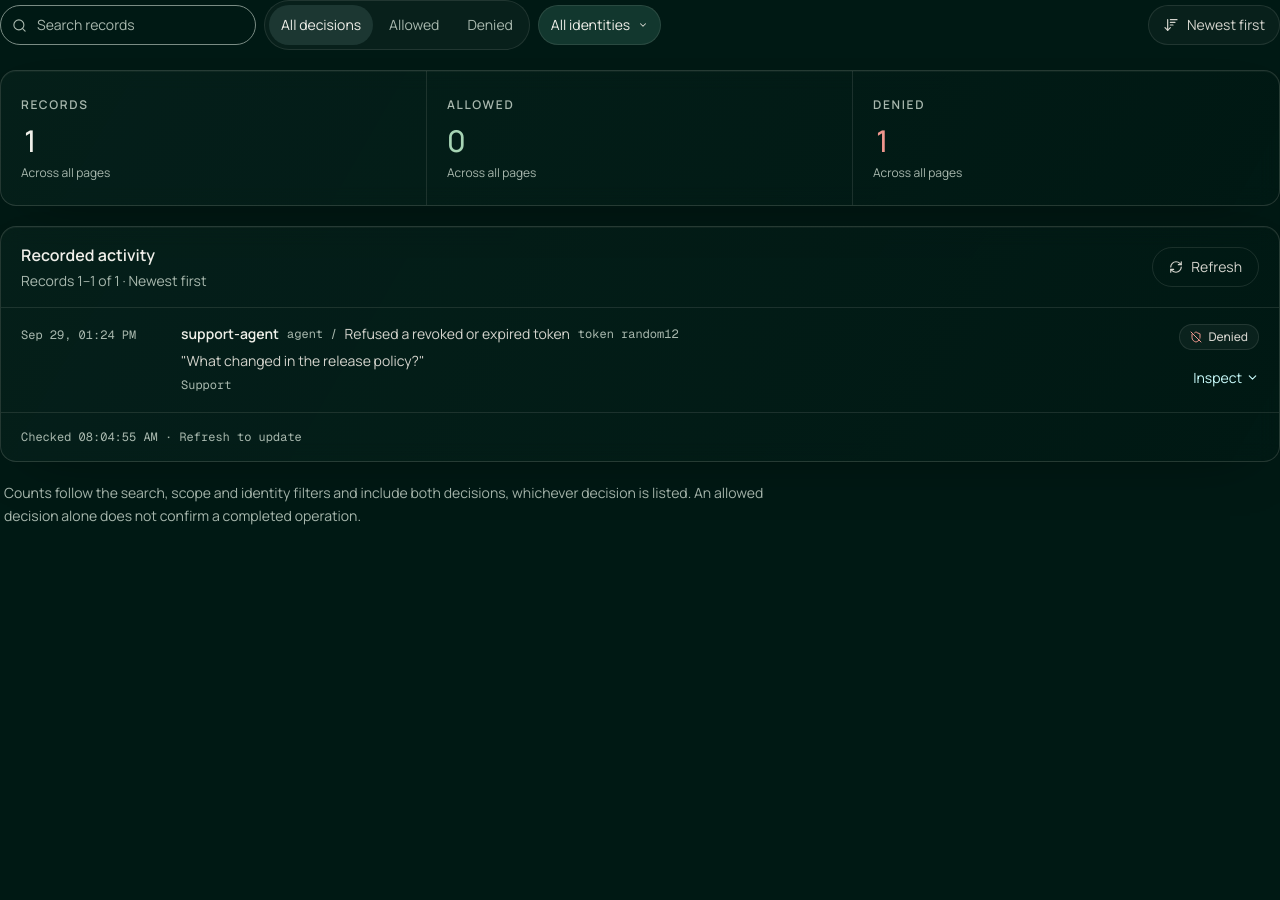
AuditLog observability › shows the token short id on a row written for a capability token
The width and height of the screenshot is (1280, 900).
Expected: the text "token random12" is shown, [578,326,679,342]
Step 1. Click the button with aria-label "Inspect event audit_refused" → (1226, 378), box [1193,362,1259,394]
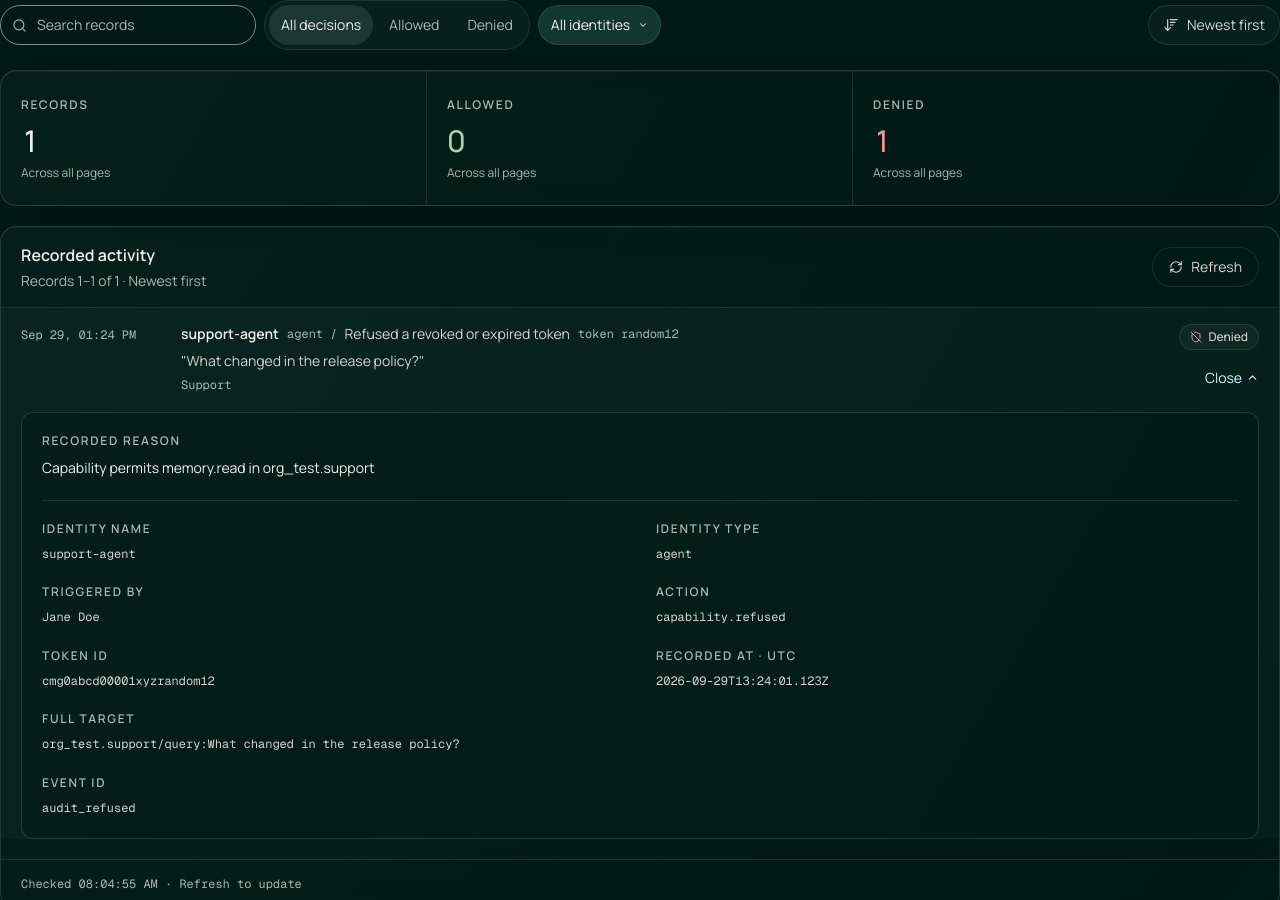
Expected: the text "cmg0abcd00001xyzrandom12" is shown, [42,672,215,688]
